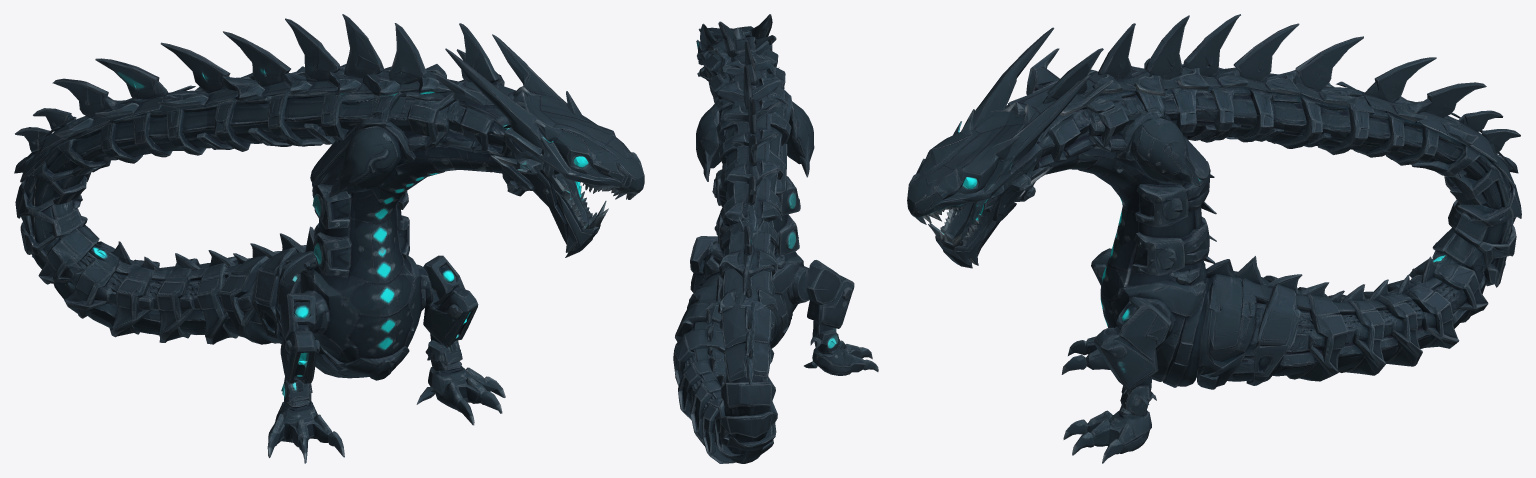
Rendered from leviatan-zero.glb.
3 renders of one model, left to right at view 1: azimuth 30°, elevation 25°; view 2: azimuth 150°, elevation 25°; view 3: azimuth 270°, elevation 25°, orthographic. The views are drawn at different scales.
Size of the model in its own units: 1.27 by 1.35 by 1.9.
Materials: 1 (1 with a texture image).
